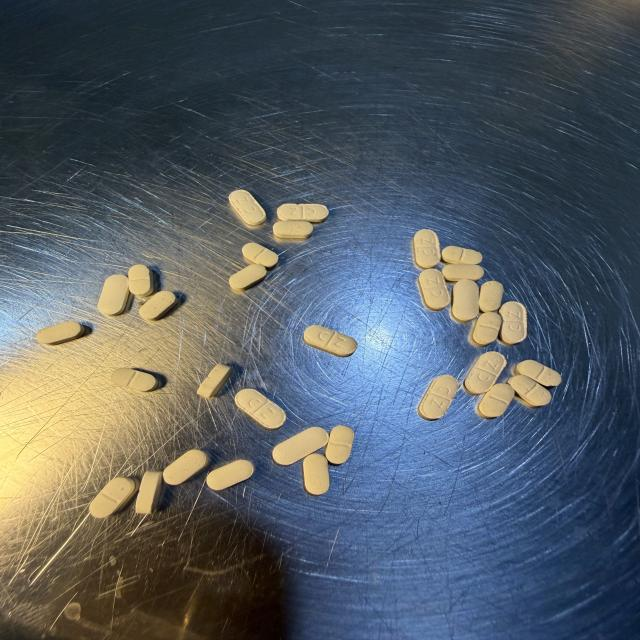pill: (273, 427, 328, 465), (235, 389, 286, 429), (89, 477, 138, 517), (464, 352, 506, 394), (418, 375, 458, 419), (304, 325, 357, 356), (163, 450, 209, 485), (207, 460, 253, 490), (508, 375, 551, 406), (418, 269, 450, 310), (229, 190, 266, 225), (98, 275, 129, 315), (197, 364, 232, 399), (478, 384, 514, 418), (516, 360, 561, 386), (36, 321, 84, 345), (499, 302, 526, 344), (111, 368, 158, 392), (325, 426, 354, 464), (139, 291, 177, 320), (136, 471, 162, 513), (452, 280, 478, 321), (303, 454, 329, 495), (413, 230, 440, 268), (229, 264, 266, 290), (472, 312, 501, 345), (277, 204, 328, 222), (242, 243, 278, 268), (129, 265, 153, 297), (479, 281, 503, 312), (442, 246, 482, 264), (273, 221, 313, 239), (442, 264, 484, 281)
